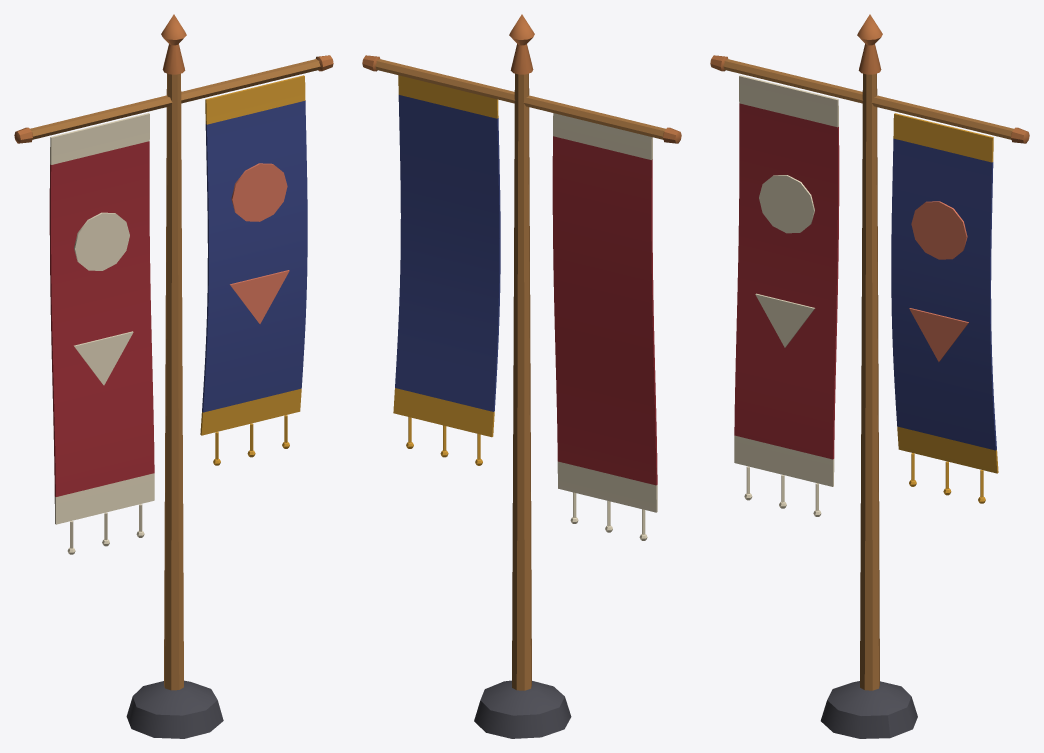
File: deco_banner_pole_twin.fbx
3 renders of one model, left to right at view 1: azimuth 30°, elevation 25°; view 2: azimuth 150°, elevation 25°; view 3: azimuth 330°, elevation 25°, orthographic.
Parts seen in each view (by area): view 1: BannerPole_Twin_BannerL, BannerPole_Twin_BannerR, BannerPole_Twin_Pole, BannerPole_Twin_Crossbar; view 2: BannerPole_Twin_BannerL, BannerPole_Twin_BannerR, BannerPole_Twin_Pole, BannerPole_Twin_Crossbar; view 3: BannerPole_Twin_BannerL, BannerPole_Twin_BannerR, BannerPole_Twin_Pole, BannerPole_Twin_Crossbar.
Boxes of the visible parts, box(x1,y1,x2,y2) form: BannerPole_Twin_BannerL: box(49, 113, 154, 554); BannerPole_Twin_BannerR: box(200, 75, 307, 465); BannerPole_Twin_Pole: box(126, 14, 223, 738); BannerPole_Twin_Crossbar: box(14, 55, 333, 143); BannerPole_Twin_BannerL: box(552, 113, 657, 540); BannerPole_Twin_BannerR: box(393, 75, 500, 465); BannerPole_Twin_Pole: box(474, 14, 571, 738); BannerPole_Twin_Crossbar: box(362, 55, 681, 143); BannerPole_Twin_BannerL: box(734, 75, 839, 516); BannerPole_Twin_BannerR: box(891, 113, 998, 503); BannerPole_Twin_Pole: box(820, 14, 917, 738); BannerPole_Twin_Crossbar: box(710, 55, 1029, 143).
Size of the model in its own units: 226 by 478 by 57.16.
